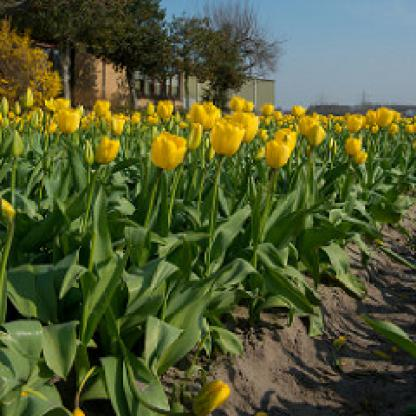TULIP: (10, 83, 415, 286)
